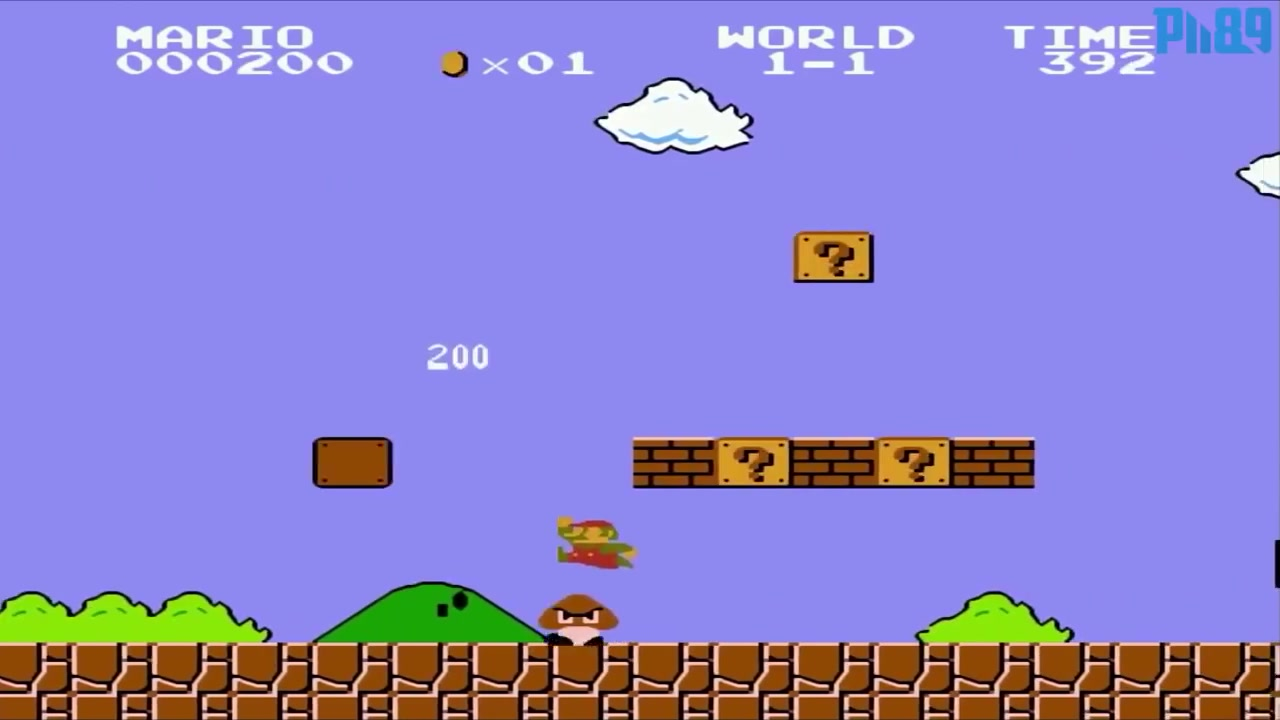mario: (549, 509, 640, 573)
